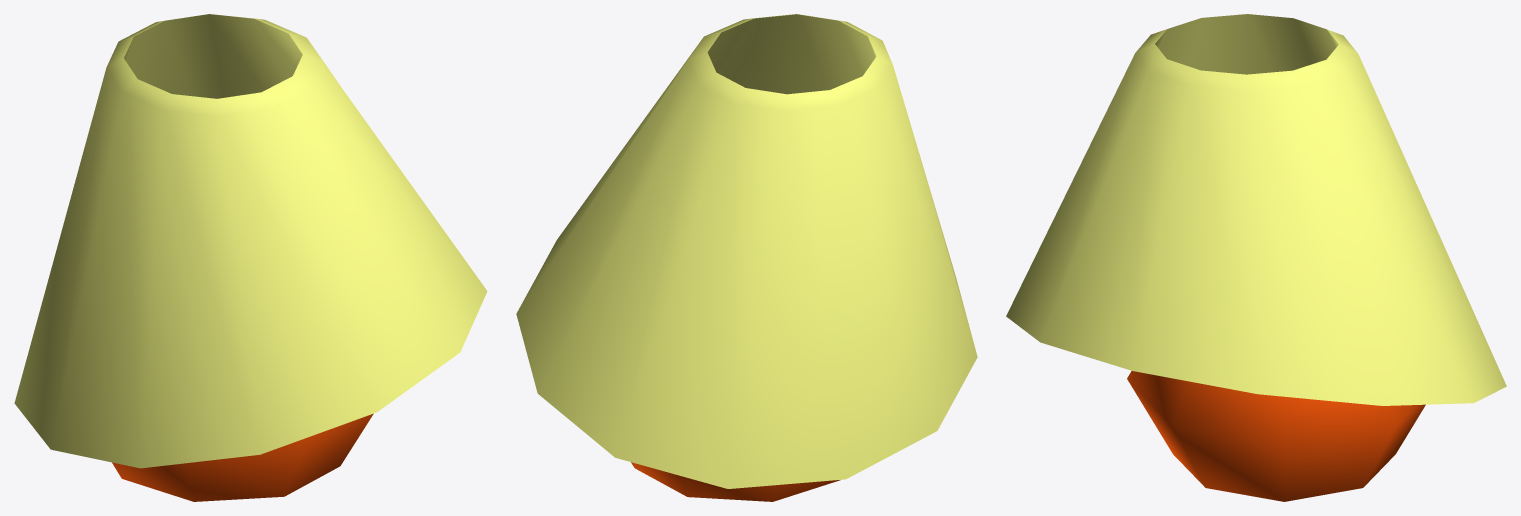
The model's file is lamp.fbx.
The picture shows the model from 3 angles, left to right: view 1: azimuth 30°, elevation 25°; view 2: azimuth 150°, elevation 25°; view 3: azimuth 270°, elevation 25°; orthographic projection. The views are drawn at different scales.
Visible parts, largest first — view 1: lamp; view 2: lamp; view 3: lamp.
Boxes of the visible parts, <box> form: lamp: <box>14,14,487,501</box>; lamp: <box>516,14,977,501</box>; lamp: <box>1006,14,1506,501</box>.
Size of the model in its own units: 1.85 by 1.86 by 2.12.
